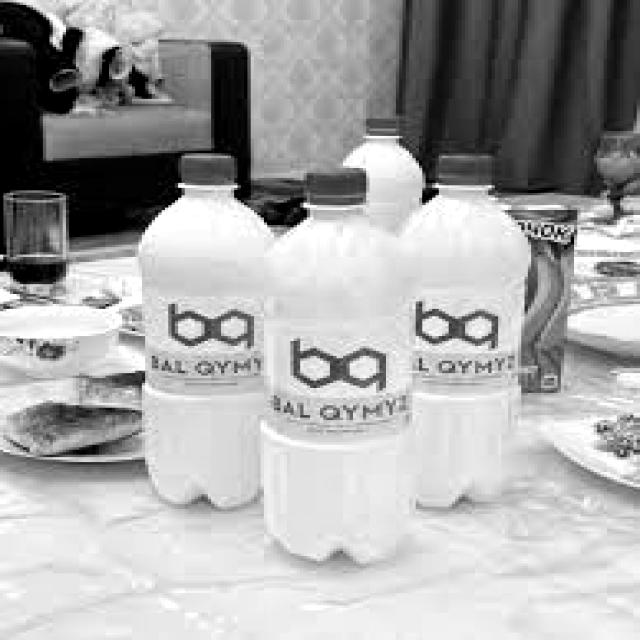balqymyz: (271, 336, 414, 434), (142, 303, 272, 393), (411, 290, 524, 392)
